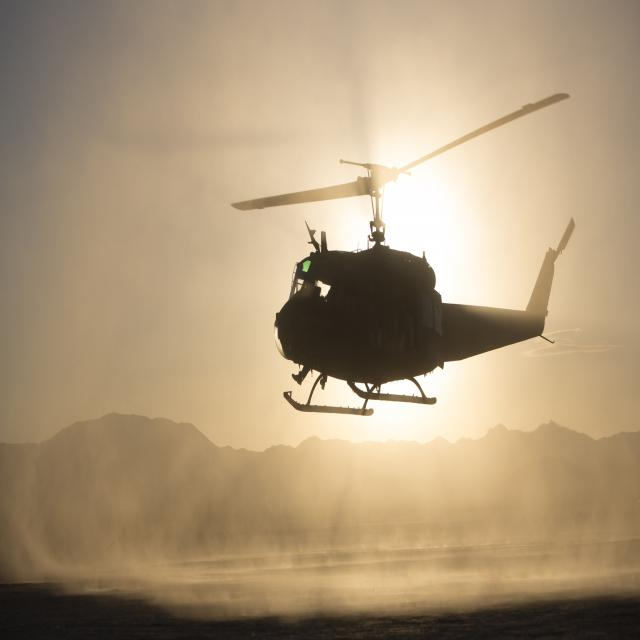helicopter: (229, 90, 579, 420)
